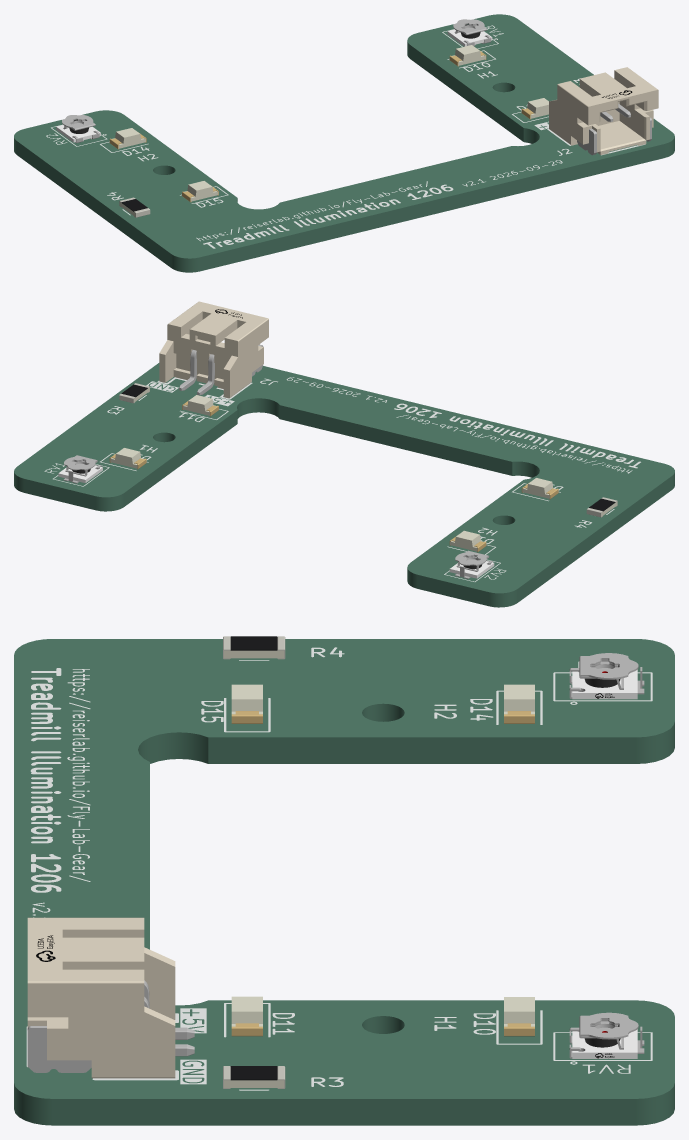
Rendered from Treadmill-Illumination-v2-1206-v2.1.glb.
3 renders of one model, top to bottom at view 1: azimuth 30°, elevation 25°; view 2: azimuth 150°, elevation 25°; view 3: azimuth 270°, elevation 25°, orthographic. The views are drawn at different scales.
Visible parts, largest first — view 1: =>[0:1:1:12], =>[0:1:1:9], =>[0:1:1:10], =>[0:1:1:5] (×4), =>[0:1:1:7] (×2), =>[0:1:1:3]; view 2: =>[0:1:1:12], =>[0:1:1:9], =>[0:1:1:10], =>[0:1:1:5] (×4), =>[0:1:1:7] (×2); view 3: =>[0:1:1:12], =>[0:1:1:9], =>[0:1:1:10], =>[0:1:1:7] (×2), =>[0:1:1:5] (×4), =>[0:1:1:3] (×2).
Part boxes in pixels (x1,y1,x2,y2): =>[0:1:1:12]: (14, 14, 674, 272); =>[0:1:1:9]: (549, 67, 658, 155); =>[0:1:1:10]: (46, 25, 645, 248); =>[0:1:1:5] (×4): (109, 45, 548, 202); =>[0:1:1:7] (×2): (56, 19, 492, 143); =>[0:1:1:3]: (119, 197, 150, 217); =>[0:1:1:12]: (14, 363, 674, 607); =>[0:1:1:9]: (159, 301, 268, 398); =>[0:1:1:10]: (44, 377, 640, 581); =>[0:1:1:5] (×4): (109, 395, 558, 552); =>[0:1:1:7] (×2): (58, 455, 494, 578); =>[0:1:1:12]: (14, 639, 674, 1125); =>[0:1:1:9]: (27, 917, 194, 1078); =>[0:1:1:10]: (26, 647, 652, 1090); =>[0:1:1:7] (×2): (569, 653, 644, 1058); =>[0:1:1:5] (×4): (231, 684, 534, 1036); =>[0:1:1:3] (×2): (223, 636, 285, 1088).
Bounding box in the file's own units: 0.056 × 0.00717 × 0.034.
